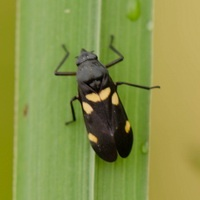insect: (55, 35, 159, 161)
